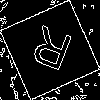R: (25, 25, 75, 81)
